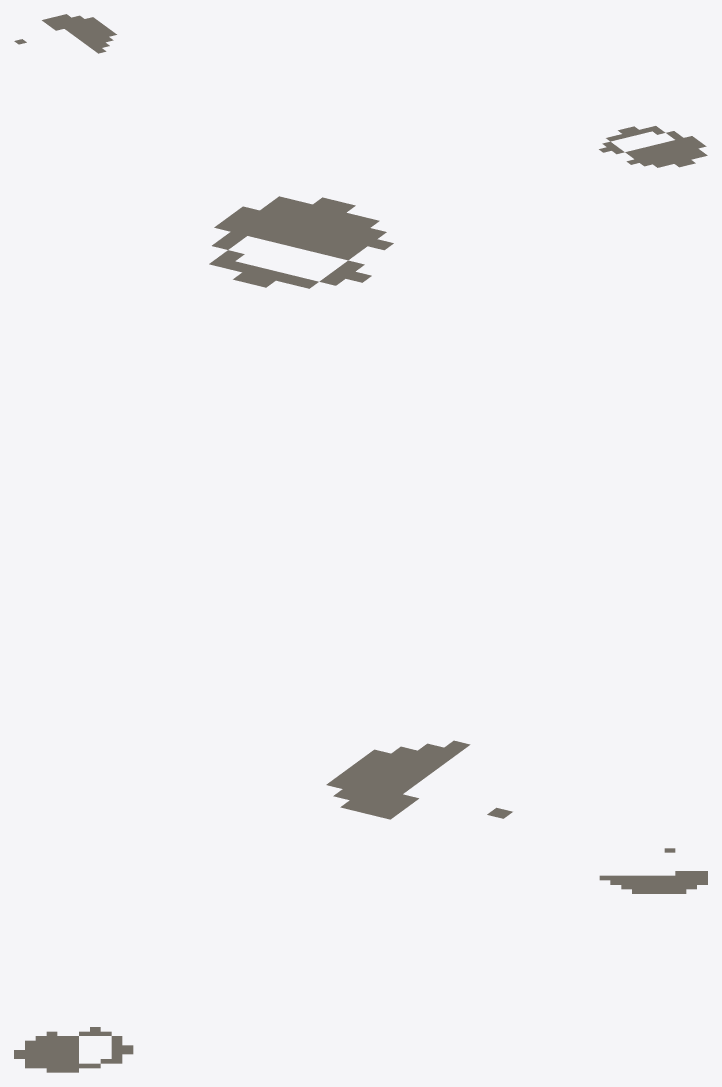
File: Isl-orc5-RocksArea.fbx
3 views of the same model, one above another, from view 1: azimuth 30°, elevation 25°; view 2: azimuth 150°, elevation 25°; view 3: azimuth 270°, elevation 25° (orthographic). The views are drawn at different scales.
Visible parts, largest first — view 1: Isl-orc5-RocksArea; view 2: Isl-orc5-RocksArea; view 3: Isl-orc5-RocksArea.
Part boxes in pixels (box(x1,y1,x2,y2)): Isl-orc5-RocksArea: box(14, 14, 707, 167); Isl-orc5-RocksArea: box(209, 196, 512, 819); Isl-orc5-RocksArea: box(14, 848, 707, 1072).
Size of the model in its own units: 49 by 0 by 64.
